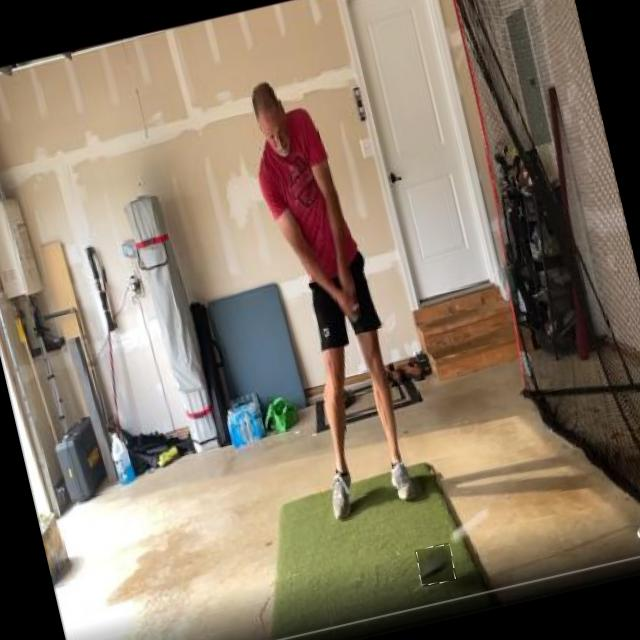club head: (414, 542, 457, 587)
